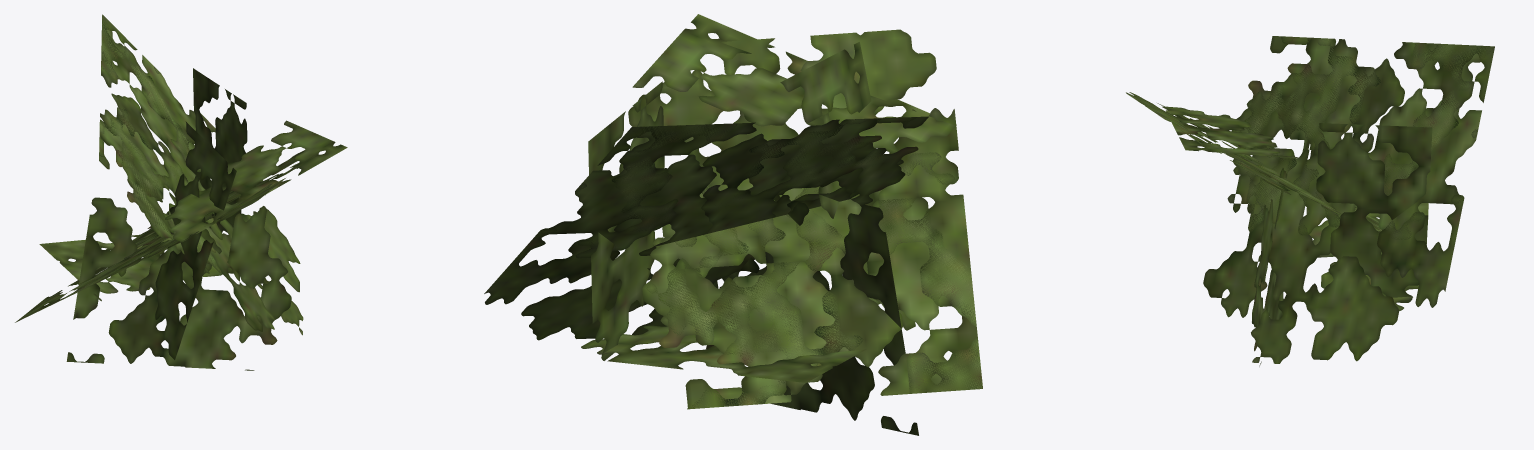
Rendered from oak_leaves_vertical_slab_2.obj.
The picture shows the model from 3 angles, left to right: view 1: azimuth 30°, elevation 25°; view 2: azimuth 150°, elevation 25°; view 3: azimuth 270°, elevation 25°; orthographic projection. The views are drawn at different scales.
Parts seen in each view (by area): view 1: cube; view 2: cube; view 3: cube.
Part boxes in pixels (x1,y1,x2,y2): cube: [15, 14, 347, 370]; cube: [484, 14, 982, 435]; cube: [1126, 36, 1494, 366].
Size of the model in its own units: 2.85 by 2.25 by 2.69.
